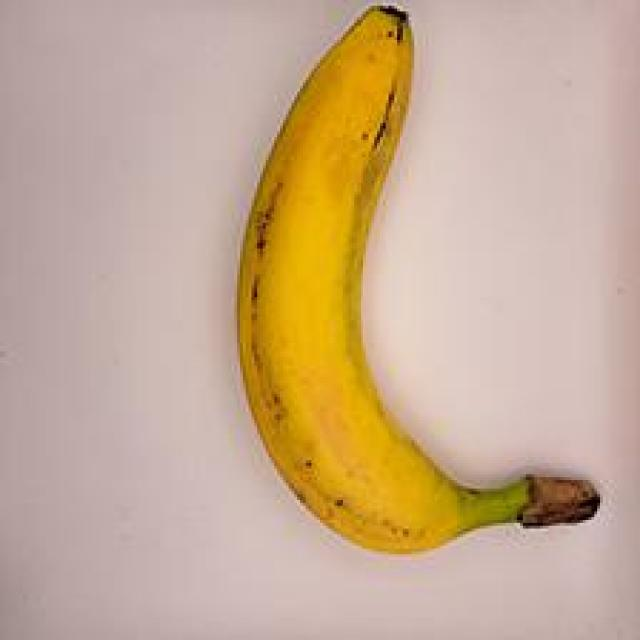ripe: (227, 0, 596, 558)
